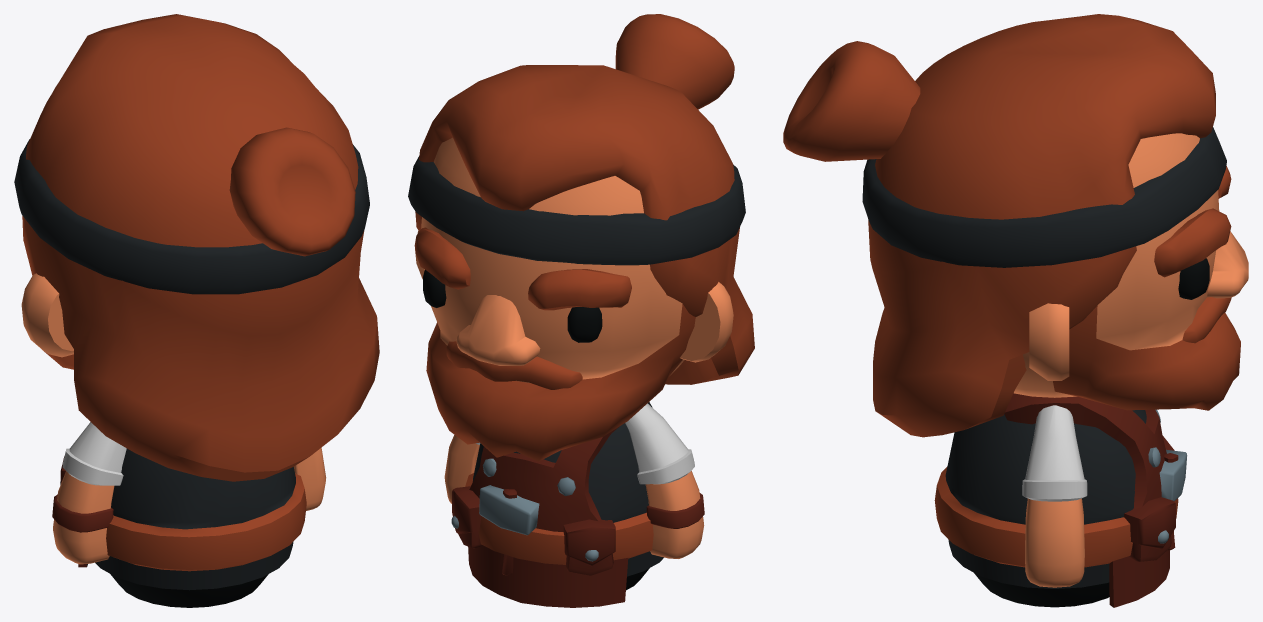
The model's file is Char_MrSolid.fbx.
3 views of the same model, side by side, from view 1: azimuth 30°, elevation 25°; view 2: azimuth 150°, elevation 25°; view 3: azimuth 270°, elevation 25° (orthographic). The views are drawn at different scales.
Visible parts, largest first — view 1: Head, Body, ArmLeft, ArmRight; view 2: Head, Body, ArmLeft, ArmRight; view 3: Head, Body, ArmRight.
Part boxes in pixels (<box>): Head: <box>14,14,379,481</box>; Body: <box>60,448,306,607</box>; ArmLeft: <box>52,422,126,564</box>; ArmRight: <box>294,447,326,510</box>; Head: <box>408,14,754,461</box>; Body: <box>451,402,663,607</box>; ArmLeft: <box>625,403,704,558</box>; ArmRight: <box>444,435,480,503</box>; Head: <box>783,14,1248,437</box>; Body: <box>934,393,1187,607</box>; ArmRight: <box>1022,405,1087,587</box>.
Size of the model in its own units: 46.28 by 55.36 by 70.22.
